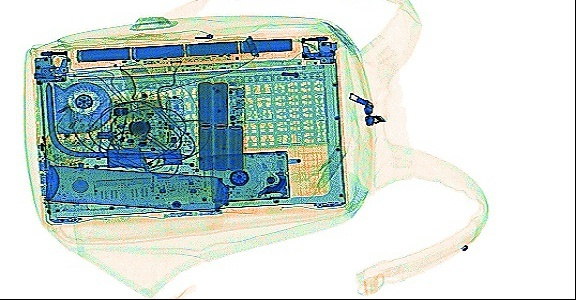powerbank: (194, 77, 245, 172)
pressure: (43, 163, 254, 211), (117, 30, 260, 99)
